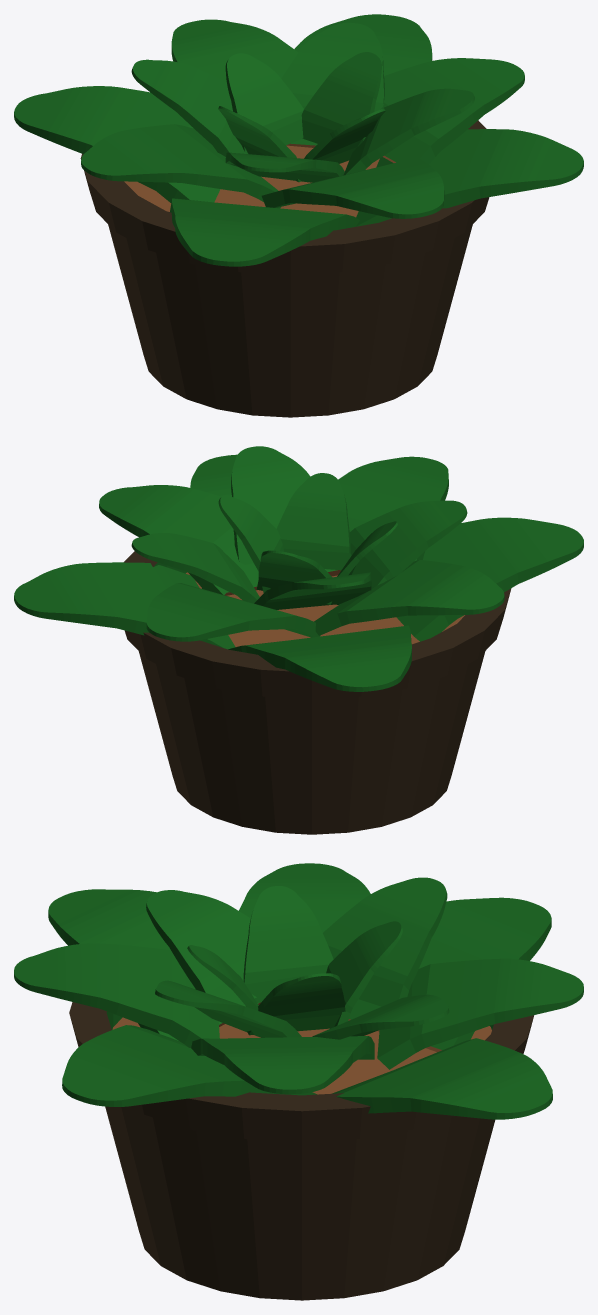
File: planta.fbx
3 renders of one model, top to bottom at view 1: azimuth 30°, elevation 25°; view 2: azimuth 150°, elevation 25°; view 3: azimuth 270°, elevation 25°, orthographic. The views are drawn at different scales.
Visible parts, largest first — view 1: Cylinder.003; view 2: Cylinder.003; view 3: Cylinder.003.
Part boxes in pixels (x1,y1,x2,y2): Cylinder.003: [14, 14, 583, 417]; Cylinder.003: [14, 446, 583, 834]; Cylinder.003: [14, 863, 583, 1300].
Bounding box in the file's own units: 243 × 151 × 254.
